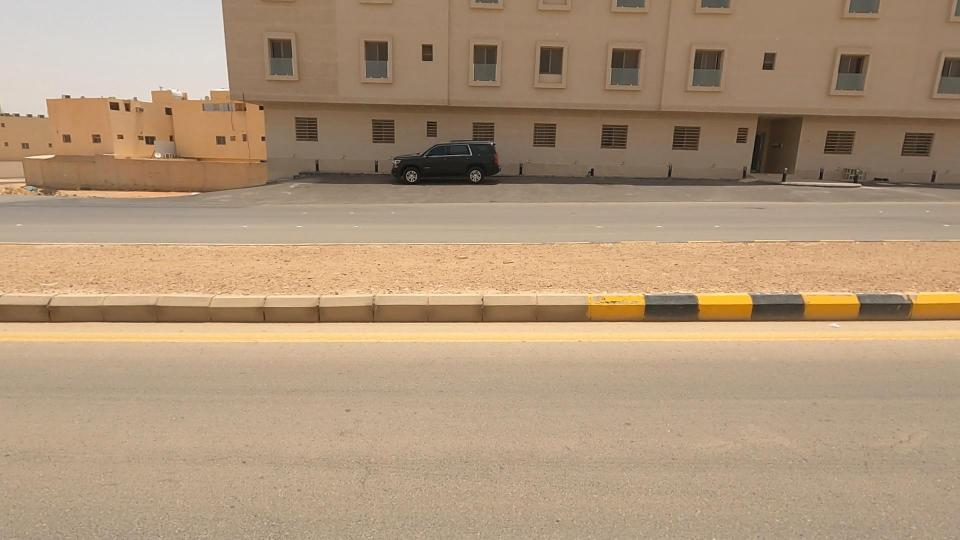CLUTTER_SIDEWALK: (11, 188, 449, 356), (370, 209, 873, 337)
